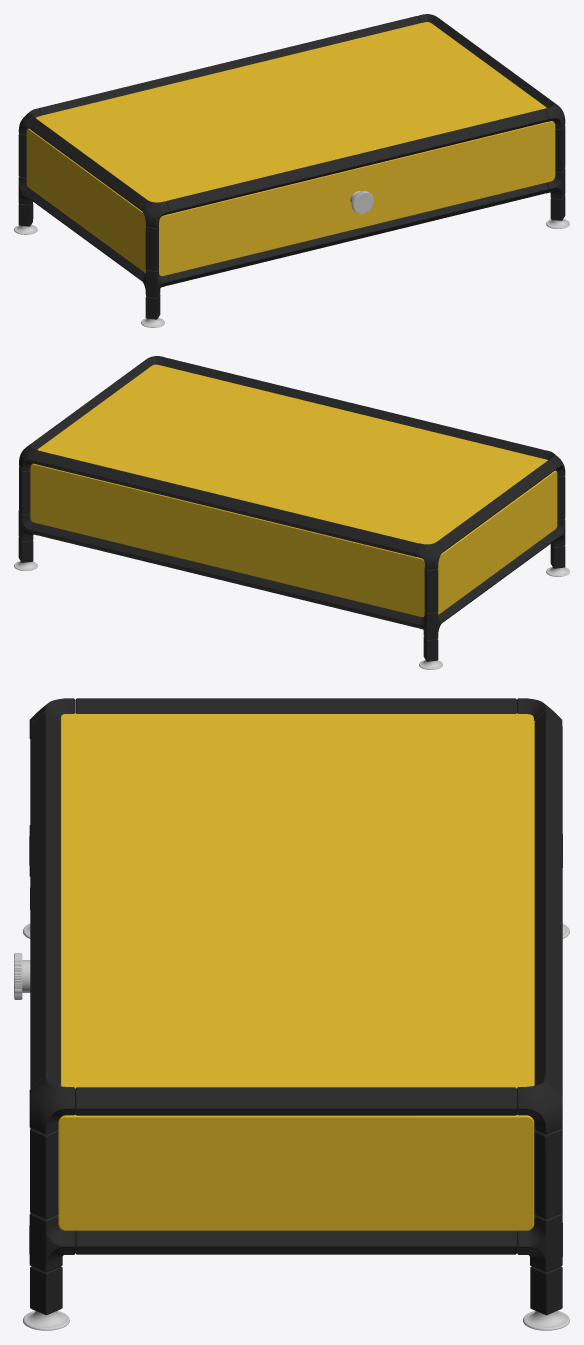
3 renders of one model, top to bottom at view 1: azimuth 30°, elevation 25°; view 2: azimuth 150°, elevation 25°; view 3: azimuth 270°, elevation 25°, orthographic. The views are drawn at different scales.
Visible parts, largest first — view 1: 729x374x79; view 2: 729x374x79; view 3: 729x374x79.
Part boxes in pixels (left/top/right/bottom): 729x374x79: left=14, top=14, right=569, bottom=327; 729x374x79: left=14, top=356, right=569, bottom=669; 729x374x79: left=14, top=698, right=569, bottom=1330.
Size of the model in its own units: 0.8189 by 0.2183 by 0.4707.
